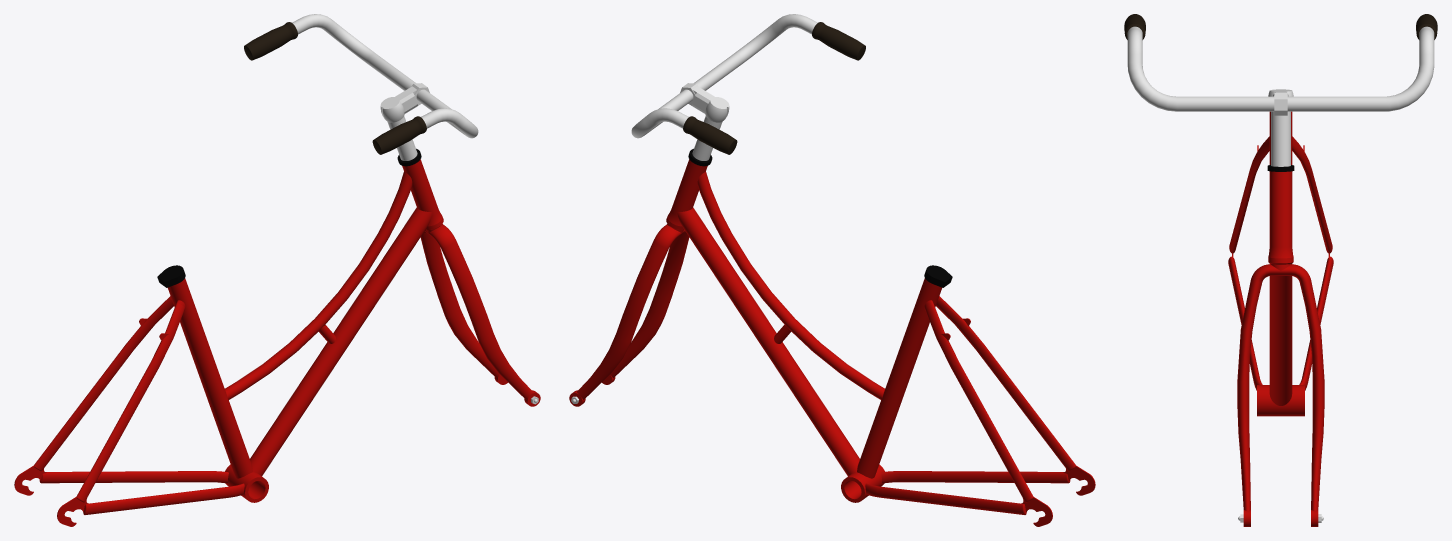
File: frameRot.glb
3 renders of one model, left to right at view 1: azimuth 30°, elevation 25°; view 2: azimuth 150°, elevation 25°; view 3: azimuth 270°, elevation 25°, orthographic. The views are drawn at different scales.
Parts seen in each view (by area): view 1: Bike03\Rahmen, Bike03\Lenkgabel; view 2: Bike03\Rahmen, Bike03\Lenkgabel; view 3: Bike03\Lenkgabel, Bike03\Rahmen.
Part boxes in pixels (x1,y1,x2,y2): Bike03\Rahmen: [14, 148, 443, 526]; Bike03\Lenkgabel: [244, 14, 540, 406]; Bike03\Rahmen: [666, 148, 1095, 526]; Bike03\Lenkgabel: [569, 14, 865, 406]; Bike03\Lenkgabel: [1124, 14, 1437, 526]; Bike03\Rahmen: [1228, 111, 1333, 416].
Size of the model in its own units: 1.14 by 0.8928 by 0.5583.
